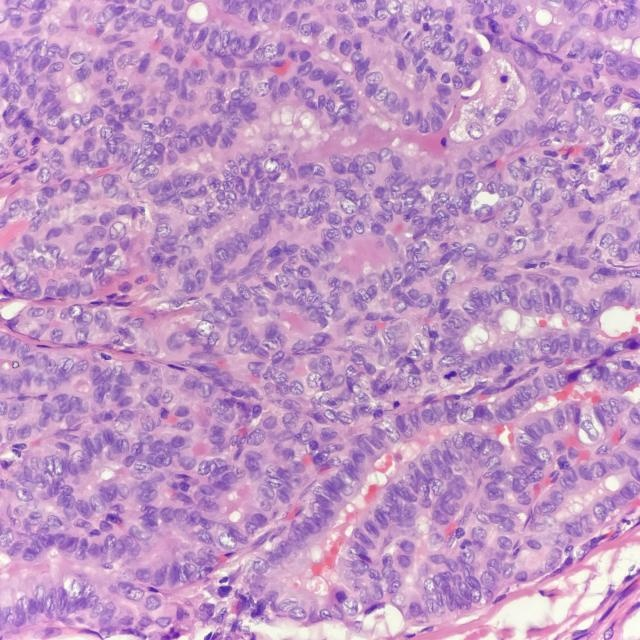TC: (505, 229, 537, 264), (107, 211, 133, 253), (190, 316, 224, 344), (435, 263, 461, 295), (289, 281, 313, 313), (275, 410, 302, 437), (510, 380, 537, 407), (381, 413, 402, 447), (331, 406, 357, 433), (213, 240, 236, 270), (373, 325, 404, 347), (303, 364, 327, 392), (266, 366, 292, 391), (456, 293, 479, 320), (560, 469, 581, 498), (317, 476, 343, 498), (195, 378, 218, 402), (355, 435, 379, 458), (509, 338, 526, 370), (247, 342, 272, 363), (441, 311, 466, 332), (501, 279, 516, 314), (550, 401, 566, 433), (257, 475, 289, 489), (513, 430, 535, 450), (290, 377, 308, 401), (306, 289, 329, 307), (158, 385, 174, 406), (457, 366, 472, 388), (478, 355, 492, 377), (438, 355, 458, 369), (539, 413, 550, 438), (352, 299, 371, 313)
